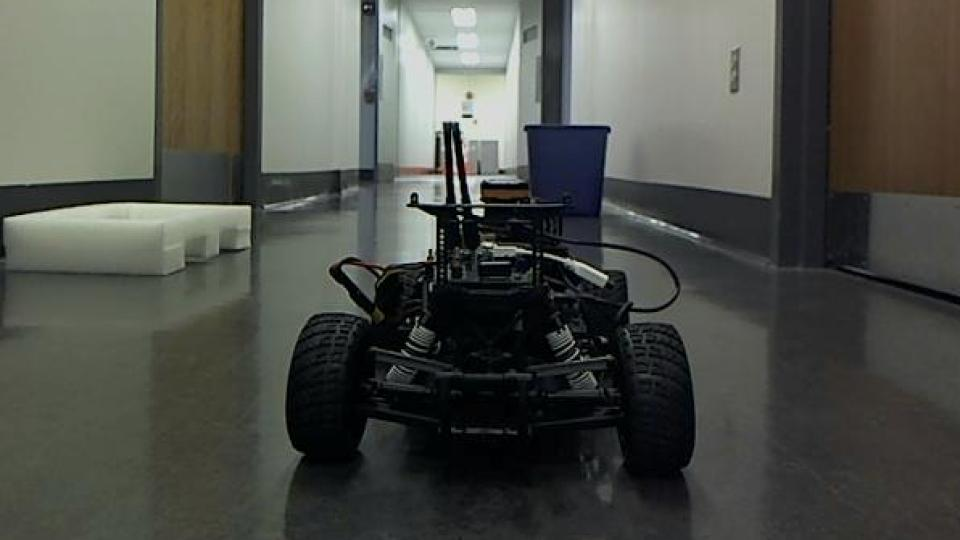car: (280, 120, 699, 480)
